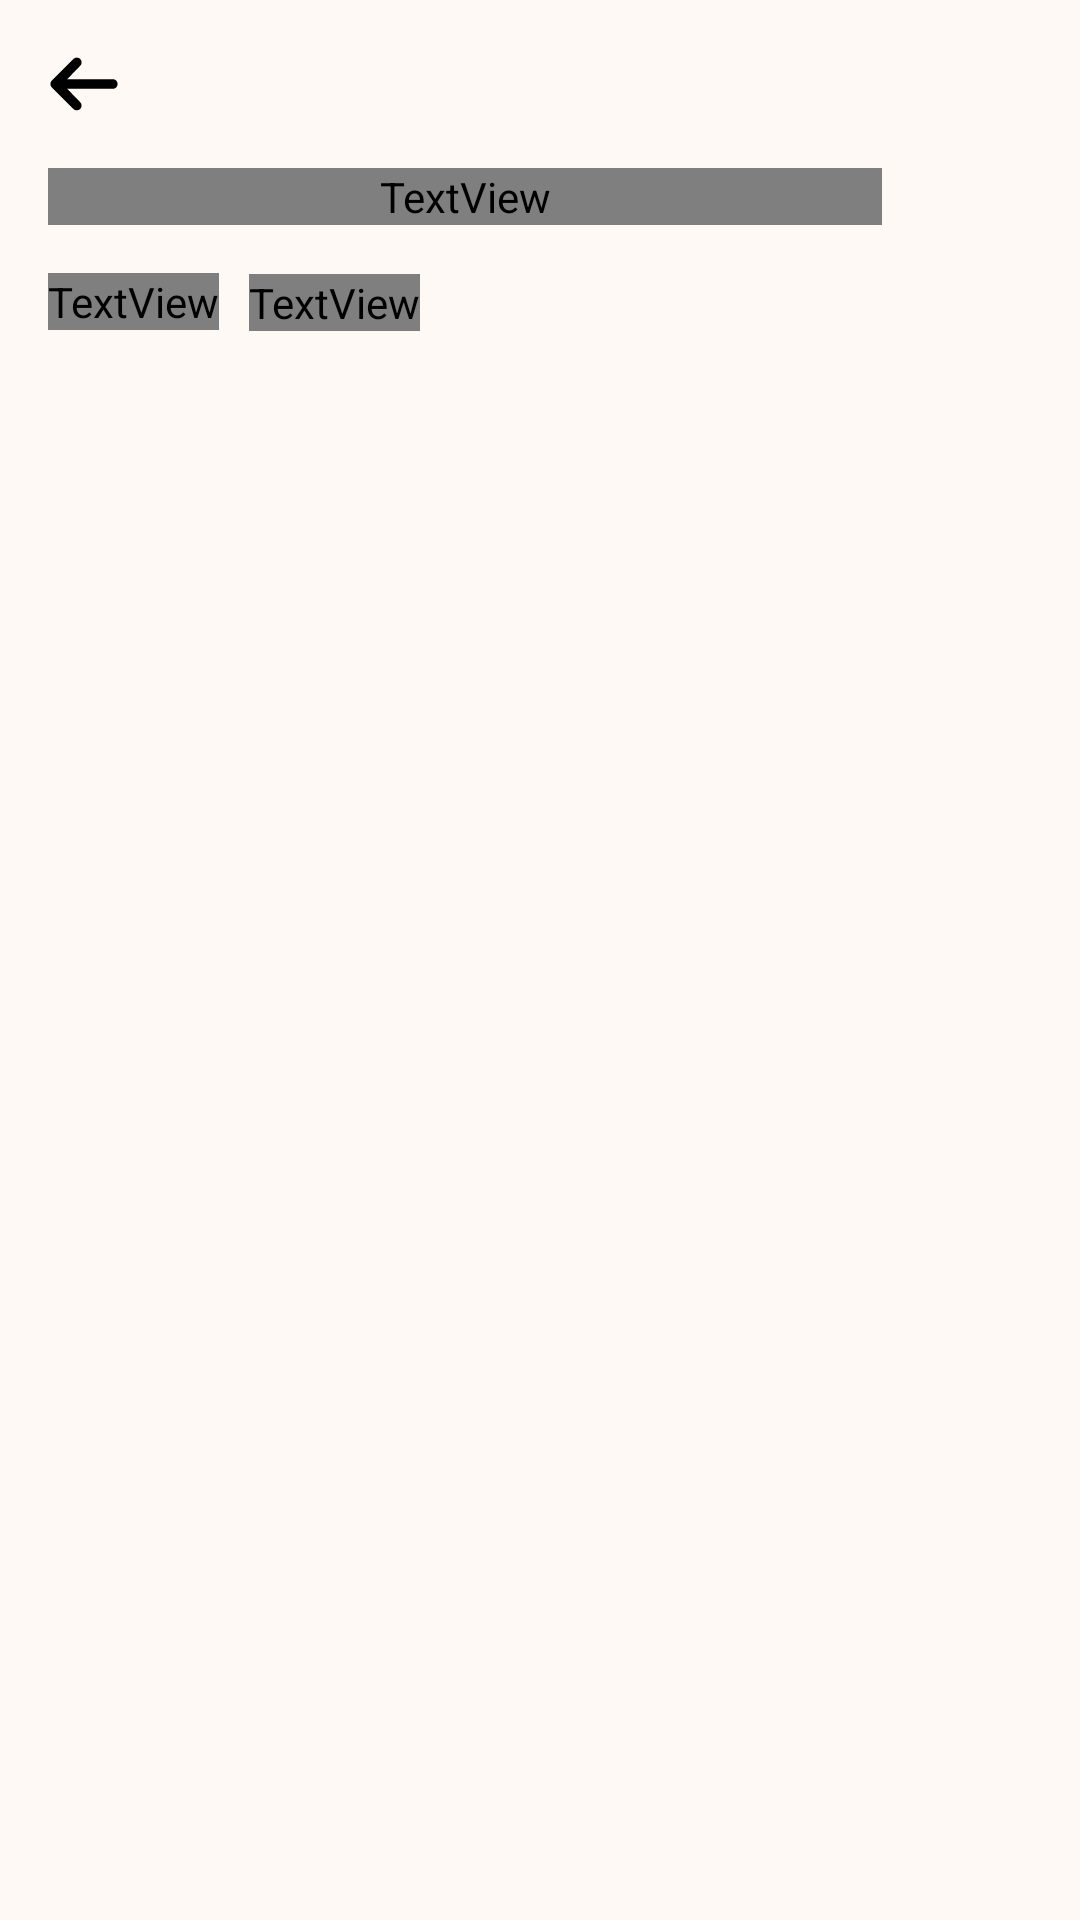

Where icons sit on this 1080px x 1920px app screen, as (x1, y1, x2, y2):
maki arrow: (50, 57, 118, 111)
